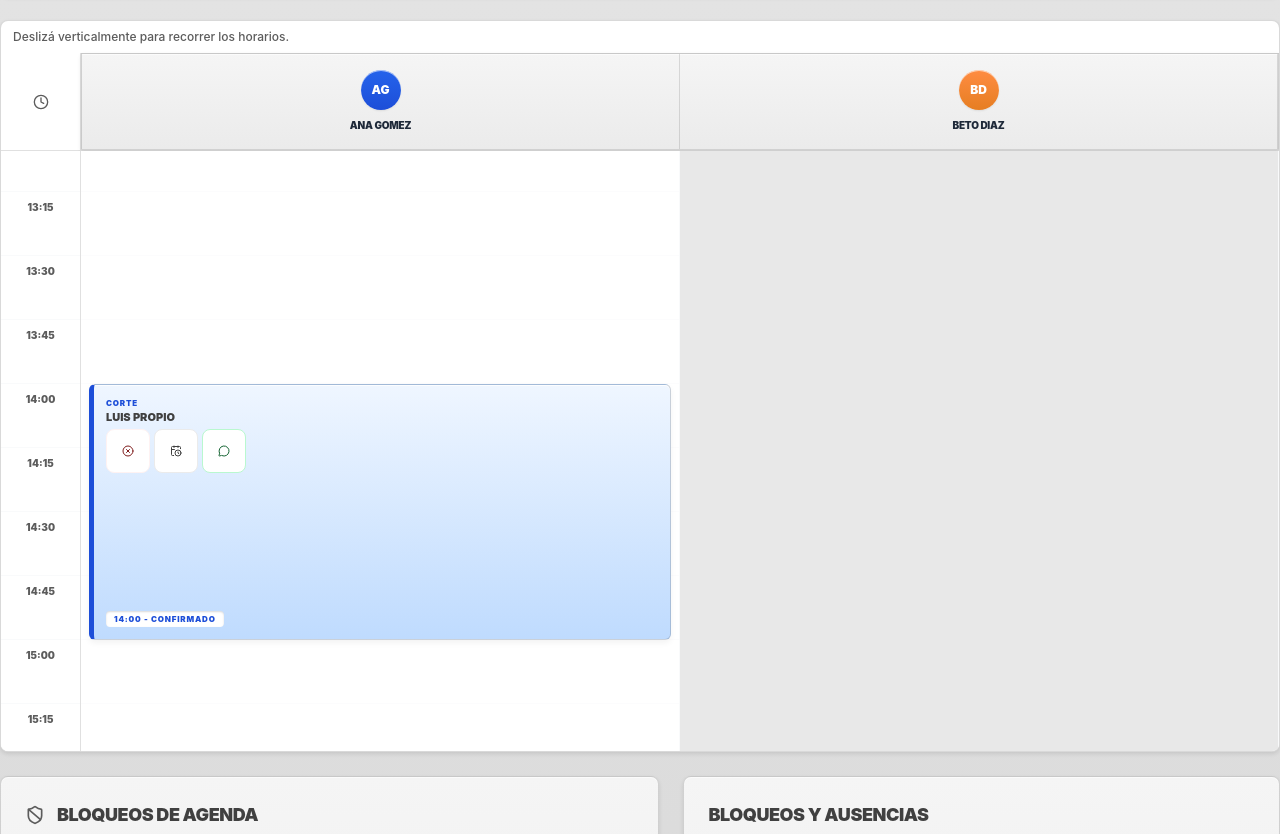
Test case: CalendarContainer - cancelar y reprogramar (FF-31) › el aviso de WhatsApp se va al cambiar de dia
(page scrolled)
Click the button named "Cancelar turno". click: (128, 451)
box: [106,429,150,473]
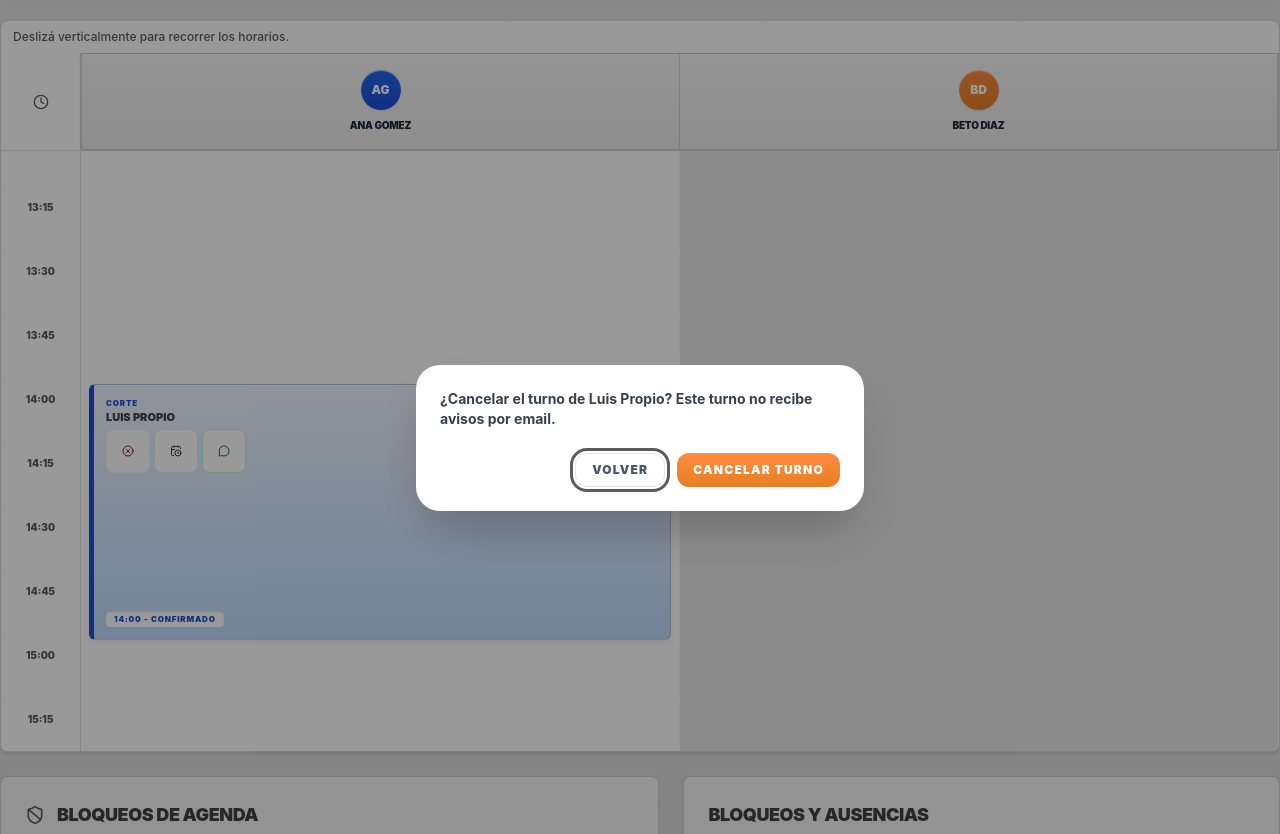
Click the button "Cancelar turno". click: (759, 470)
box: [677,453,840,487]
(page scrolled)
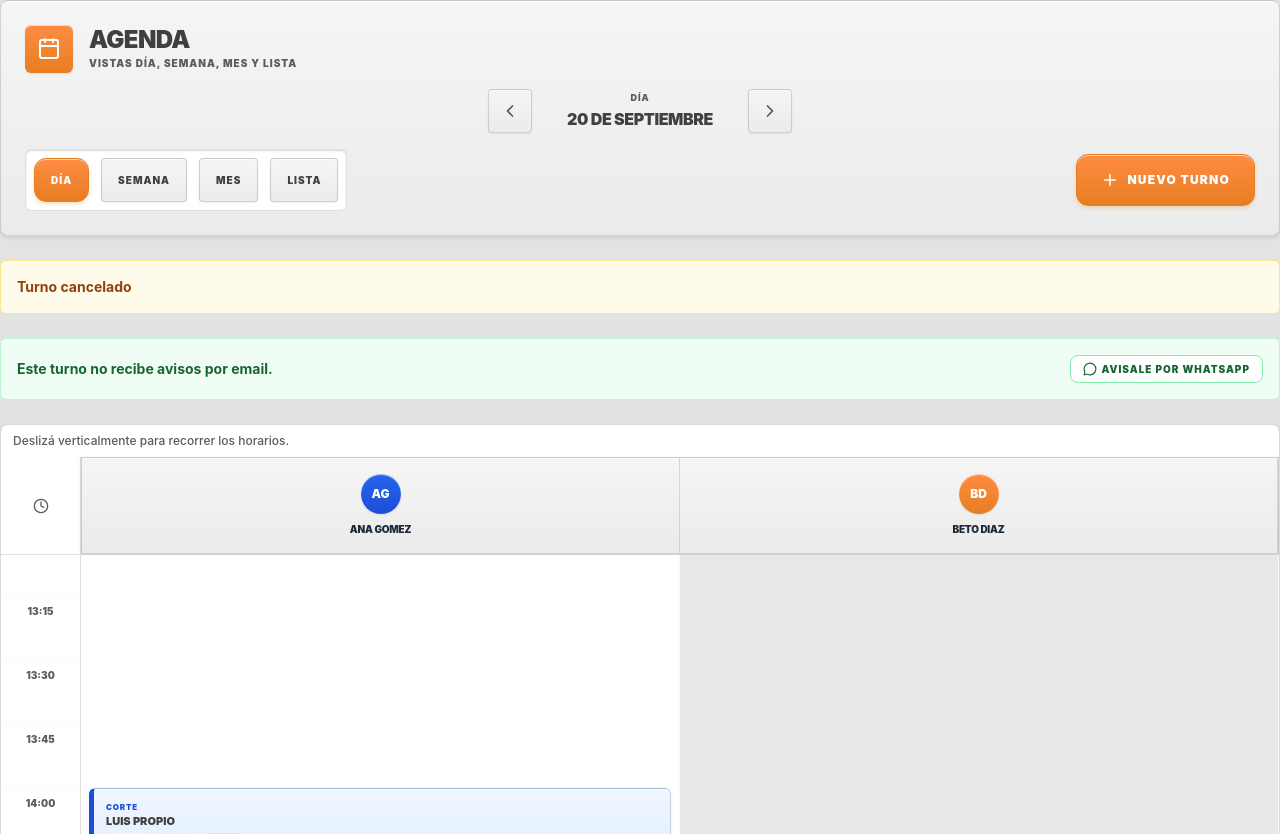
Check: the text "Este turno no recibe avisos por email." is shown, box [17,360,273,377]
Click the button named "Siguiente". click: (770, 111)
box: [748,89,792,133]
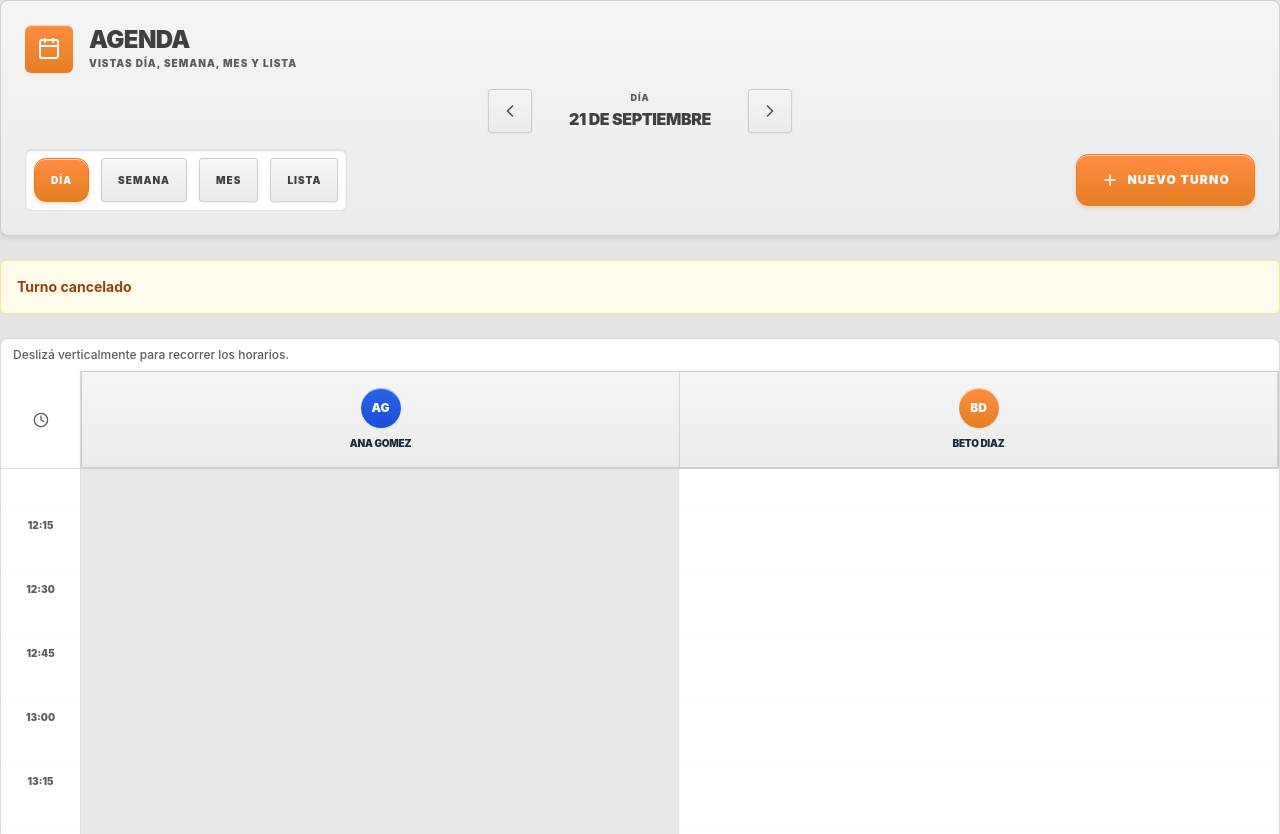
Check: the text "Este turno no recibe avisos por email." is gone
Check: the link "Avisale por WhatsApp" is gone
